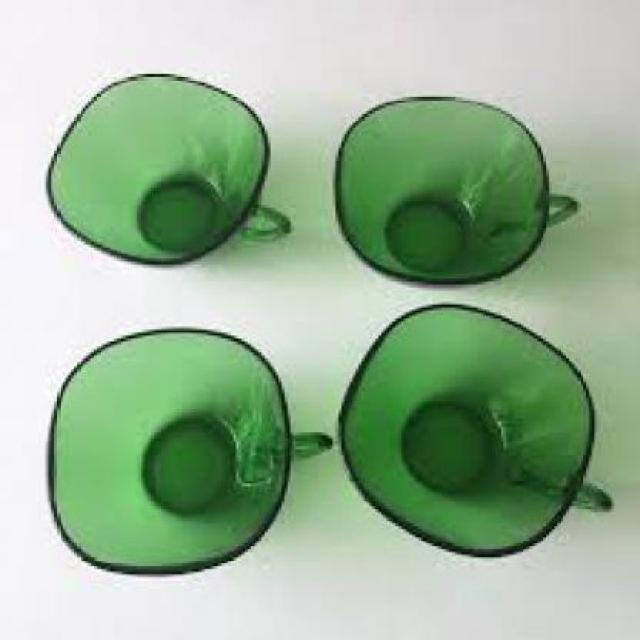kaca: (338, 302, 612, 560), (46, 328, 331, 572), (332, 93, 580, 284), (40, 73, 288, 264)
